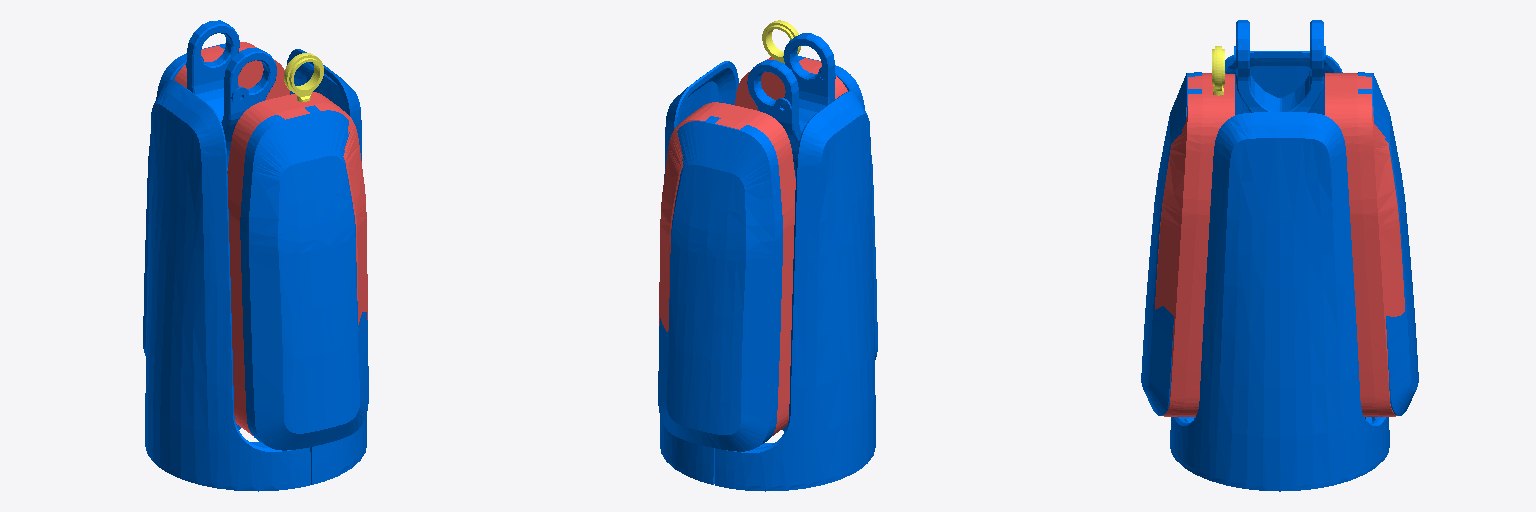
robot.urdf — a2_t2d0_ultra:
<?xml version="1.0" encoding="utf-8"?>
<!-- This URDF was automatically created by SolidWorks to URDF Exporter! Originally created by [author] ([email redacted])
     Commit Version: 1.6.0-4-g7f85cfe  Build Version: 1.6.7995.38578
     For more information, please see http://wiki.ros.org/sw_urdf_exporter -->
     
<robot name="a2_t2d0_ultra">
  <link name = "left_arm_link05">
    <inertial>
      <origin xyz="-0.001962 -0.000002 0.071786" rpy="0 0 0" />
      <mass value="0.260886" />
      <inertia ixx="0.000638" iyy="0.000618" izz="0.000229" ixy="0.000000" ixz="0.000015" iyz="0.000000"/>
    </inertial>
    <visual name = "">
      <origin rpy = "0.0 0.0 0.0" xyz = "0.0 0.0 0.0" />
      <geometry>
        <mesh filename = "package://robot_descriptions/models/a2_t2d0_ultra/meshes/compressed/left_arm_link05.stl" />
      </geometry>
      <material name = "">
        <color rgba = "0 0.5 1 1.0" />
        <texture filename = "" />
      </material>
    </visual>
    <collision>
      <origin xyz="0 0 0" rpy="0 0 0" />
      <geometry>
        <mesh filename="package://robot_descriptions/models/a2_t2d0_ultra/meshes/convex/left_arm_link05_hull.stl"/>
      </geometry>
    </collision>
  </link>

  <link name = "left_arm_link06">
    <inertial>
      <origin xyz="0.00018011 -0.00021701 0.00000000" rpy="0 0 0" />
      <mass value="0.02504627" />
      <inertia ixx="0.00000197" iyy="0.00000173" izz="0.00000071" ixy="0.00000000" ixz="0.00000000" iyz="0.00000000"/>
    </inertial>
    <visual name = "">
      <origin rpy = "0.0 0.0 0.0" xyz = "0.0 0.0 0.0" />
      <geometry>
        <mesh filename="package://robot_descriptions/models/a2_t2d0_ultra/meshes/compressed/left_arm_link06.stl" />
      </geometry>
      <material name = "">
        <color rgba = "0.8 1.0 0.8 1" />
        <texture filename = "" />
      </material>
    </visual>
    <collision>
      <origin xyz="0 0 0" rpy="0 0 0" />
      <geometry>
        <mesh filename="package://robot_descriptions/models/a2_t2d0_ultra/meshes/convex/left_arm_link06_hull.stl"/>
      </geometry>
    </collision>
  </link>
   <joint name = "idx18_left_arm_joint6" type = "revolute">
    <origin xyz="-0.01 0 0.1595" rpy="-1.5707963 1.5707963 0" />
    <parent link = "left_arm_link05" />
    <child link = "left_arm_link06" />
    <axis xyz = "0 0 1" />
    <limit lower = "-0.785398" upper = "0.785398" velocity = "0.0" effort = "0" />
  </joint>

  <link name = "left_arm_link07">
    <inertial>
      <origin xyz="-0.01211757 -0.00009712 0.00886324" rpy="0 0 0" />
      <mass value="0.05050219" />
      <inertia ixx="0.00000828" iyy="0.00001140" izz="0.00001294" ixy="0.00000006" ixz="-0.00000179" iyz="0.00000004"/>
    </inertial>
    <visual name = "">
      <origin rpy = "0.0 0.0 0.0" xyz = "0.0 0.0 0.0" />
      <geometry>
        <mesh filename="package://robot_descriptions/models/a2_t2d0_ultra/meshes/compressed/left_arm_link07.stl" />
      </geometry>
      <material name = "">
        <color rgba = "1 0.5 1 1" />
        <texture filename = "" />
      </material>
    </visual>
    <collision>
      <origin xyz="0 0 0" rpy="0 0 0" />
      <geometry>
        <mesh filename="package://robot_descriptions/models/a2_t2d0_ultra/meshes/convex/left_arm_link07_hull.stl"/>
      </geometry>
    </collision>
  </link>
  <joint name = "idx19_left_arm_joint7" type = "revolute">
    <origin xyz="0 0 0" rpy="1.5707963 0 0" />
    <parent link = "left_arm_link06" />
    <child link = "left_arm_link07" />
    <axis xyz = "0 0 1" />
    <limit lower="-0.5236" upper="0.5236" effort="0" velocity="0" />
  </joint>

  <joint name="left_wrist_motor_A_ball" type="fixed">
    <origin xyz="0.005 0.02245 0.0245" rpy="0 -3.126778944 0" />
    <parent link="left_arm_link05" />
    <child link="left_wrist_motor_A" />
  </joint>
  <link name="left_wrist_motor_A">
    <visual>
      <origin xyz="0 0 0" rpy="0 0 0" />
      <geometry>
        <mesh filename="package://robot_descriptions/models/a2_t2d0_ultra/meshes/compressed/left_wrist_motor_A.stl" />
      </geometry>
      <material name="">
        <color rgba="1 0.4 0.4 1" />
      </material>
    </visual>
    <collision>
      <origin xyz="0 0 0" rpy="0 0 0" />
      <geometry>
        <mesh filename="package://robot_descriptions/models/a2_t2d0_ultra/meshes/convex/left_wrist_motor_A_hull.stl"/>
      </geometry>
    </collision>
  </link>

  <joint name="left_wrist_rod_A_joint" type="fixed">
    <origin xyz="0 0 -0.135015" rpy="0 3.1415926535 0" />
    <parent link="left_wrist_motor_A" />
    <child link="left_wrist_rod_A" />
    <axis xyz="0 0 1" />
    <limit lower="-0.01199" upper="0.01204" effort="0" velocity="0" />
  </joint>
  <link name="left_wrist_rod_A">
    <visual>
      <origin xyz="0 0 0" rpy="0 0 0" />
      <geometry>
        <mesh filename="package://robot_descriptions/models/a2_t2d0_ultra/meshes/compressed/left_wrist_rod_A.stl" />
      </geometry>
      <material name="">
        <color rgba="1 1 0.4 1" />
      </material>
    </visual>
    <collision>
      <origin xyz="0 0 0" rpy="0 0 0" />
      <geometry>
        <mesh filename="package://robot_descriptions/models/a2_t2d0_ultra/meshes/convex/left_wrist_rod_A_hull.stl"/>
      </geometry>
    </collision>
  </link>

  <joint name="left_wrist_motor_B_ball" type="fixed">
    <origin xyz="0.005 -0.02245 0.0245" rpy="0 -3.126778944 0" />
    <parent link="left_arm_link05" />
    <child link="left_wrist_motor_B" />
  </joint>
  <link name="left_wrist_motor_B">
    <visual>
      <origin xyz="0 0 0" rpy="0 0 0" />
      <geometry>
        <mesh filename="package://robot_descriptions/models/a2_t2d0_ultra/meshes/compressed/left_wrist_motor_B.stl" />
      </geometry>
      <material name="">
        <color rgba="1 0.4 0.4 1" />
      </material>
    </visual>
    <collision>
      <origin xyz="0 0 0" rpy="0 0 0" />
      <geometry>
        <mesh filename="package://robot_descriptions/models/a2_t2d0_ultra/meshes/convex/left_wrist_motor_B_hull.stl"/>
      </geometry>
    </collision>
  </link>

  <joint name="left_wrist_rod_B_joint" type="fixed">
    <origin xyz="0 0 -0.135015" rpy="0 3.1415926535 0" />
    <parent link="left_wrist_motor_B" />
    <child link="left_wrist_rod_B" />
    <axis xyz="0 0 1" />
    <limit lower="-0.01199" upper="0.01204" effort="0" velocity="0" />
  </joint>
  <link name="left_wrist_rod_B">
    <visual>
      <origin xyz="0 0 0" rpy="0 0 0" />
      <geometry>
        <mesh filename="package://robot_descriptions/models/a2_t2d0_ultra/meshes/compressed/left_wrist_rod_B.stl" />
      </geometry>
      <material name="">
        <color rgba="1 1 0.4 1" />
      </material>
    </visual>
    <collision>
      <origin xyz="0 0 0" rpy="0 0 0" />
      <geometry>
        <mesh filename="package://robot_descriptions/models/a2_t2d0_ultra/meshes/convex/left_wrist_rod_B_hull.stl"/>
      </geometry>
    </collision>
  </link>
</robot>

--- Render facts (derived) ---
3 views of the same robot in one strip: view 1: azimuth 30°, elevation 25°; view 2: azimuth 150°, elevation 25°; view 3: azimuth 270°, elevation 25° (orthographic).
Model a2_t2d0_ultra with 7 links and 6 joints (2 revolute, 4 fixed), rooted at left_arm_link05, posed all joints at 0.
Visible links, largest first — view 1: left_arm_link05, left_wrist_motor_B, left_wrist_motor_A, left_wrist_rod_B; view 2: left_arm_link05, left_wrist_motor_A, left_wrist_motor_B, left_wrist_rod_B; view 3: left_arm_link05, left_wrist_motor_A, left_wrist_motor_B, left_wrist_rod_B.
Link boxes in pixels (x1,y1,x2,y2): left_arm_link05: (143,20,368,491); left_wrist_motor_B: (227,92,367,435); left_wrist_motor_A: (174,42,289,99); left_wrist_rod_B: (284,53,323,101); left_arm_link05: (658,33,877,491); left_wrist_motor_A: (659,102,795,435); left_wrist_motor_B: (735,57,847,110); left_wrist_rod_B: (762,20,800,63); left_arm_link05: (1141,20,1418,491); left_wrist_motor_A: (1325,73,1404,416); left_wrist_motor_B: (1155,73,1234,416); left_wrist_rod_B: (1212,46,1224,95).
Bounding box of the posed robot: 0.0803 × 0.1013 × 0.166 m (x, y, z).
Meshes: 7 distinct files referenced, 4 mesh visuals loaded (4 binary STL); not drawn: 3 (reference not matched to a file when rendering).